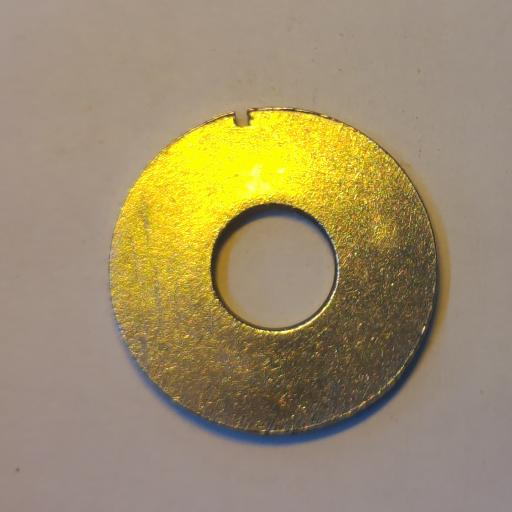burr: (231, 107, 253, 129)
